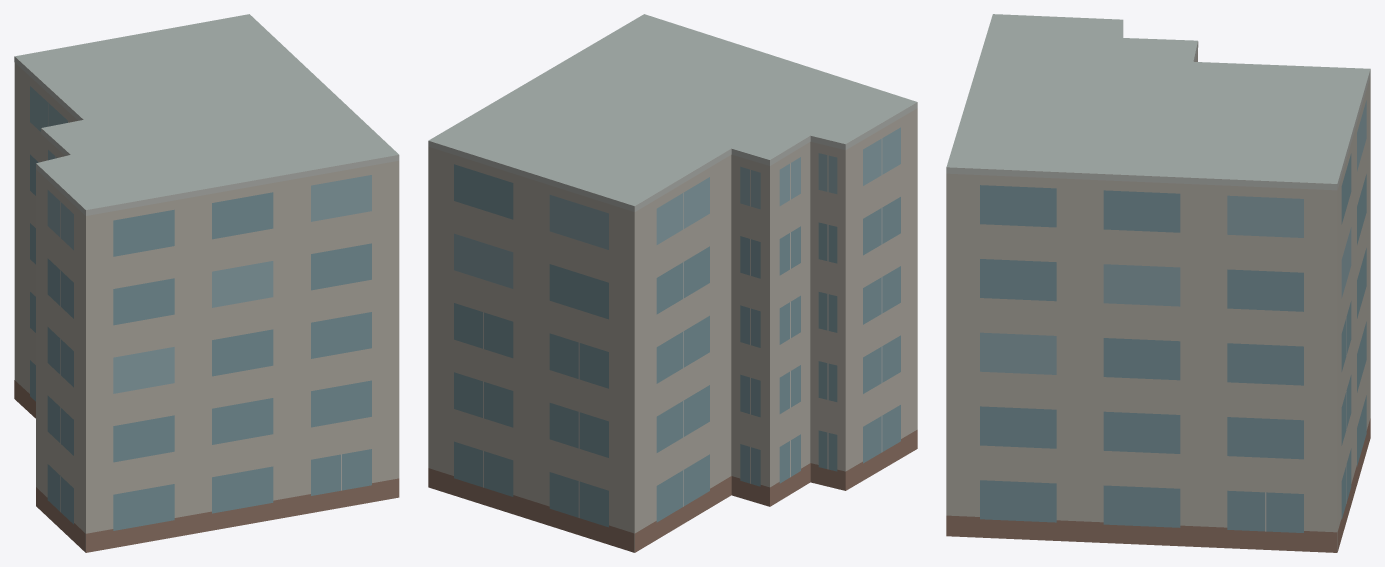
The model's file is survey-upis-32683887.glb.
3 renders of one model, left to right at view 1: azimuth 30°, elevation 25°; view 2: azimuth 150°, elevation 25°; view 3: azimuth 270°, elevation 25°, orthographic. The views are drawn at different scales.
Visible parts, largest first — view 1: survey-upis-32683887.tmp; view 2: survey-upis-32683887.tmp; view 3: survey-upis-32683887.tmp.
Boxes of the visible parts, x1,y1,x2,y2 form: survey-upis-32683887.tmp: (14, 14, 399, 552); survey-upis-32683887.tmp: (428, 14, 917, 552); survey-upis-32683887.tmp: (946, 14, 1370, 552).
Bounding box in the file's own units: 14.05 × 14.2 × 14.81.
